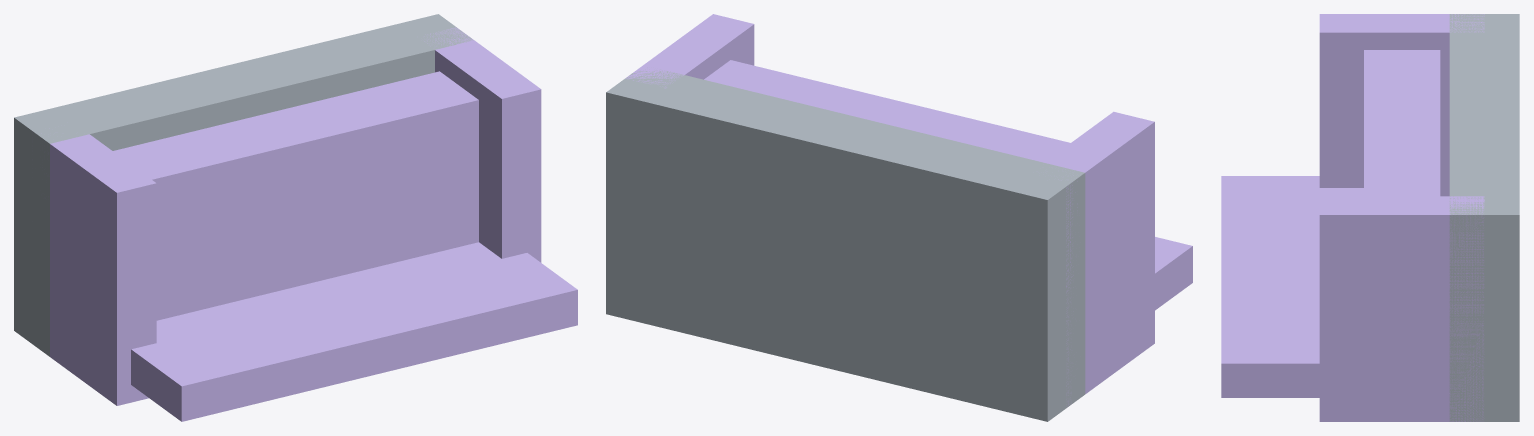
Rendered from sofa_two_seat.glb.
3 renders of one model, left to right at view 1: azimuth 30°, elevation 25°; view 2: azimuth 150°, elevation 25°; view 3: azimuth 270°, elevation 25°, orthographic. The views are drawn at different scales.
Parts seen in each view (by area): view 1: seat_1, back_2, base_0, arm_l_3, arm_r_4; view 2: base_0, arm_l_3, seat_1, arm_r_4, back_2; view 3: arm_r_4, base_0, back_2, arm_l_3, seat_1.
Part boxes in pixels (x1,y1,x2,y2): seat_1: (113, 71, 478, 320); back_2: (131, 242, 577, 421); base_0: (14, 14, 473, 356); arm_l_3: (32, 128, 156, 405); arm_r_4: (424, 27, 541, 262); base_0: (606, 67, 1085, 421); arm_l_3: (1044, 111, 1154, 406); seat_1: (704, 60, 1070, 162); arm_r_4: (625, 14, 754, 88); back_2: (1155, 237, 1192, 310); arm_r_4: (1319, 196, 1484, 421); base_0: (1449, 14, 1519, 421); back_2: (1221, 176, 1363, 397); arm_l_3: (1319, 14, 1484, 196); seat_1: (1364, 50, 1440, 196).
Size of the model in its own units: 1.5 by 0.72 by 0.94.
